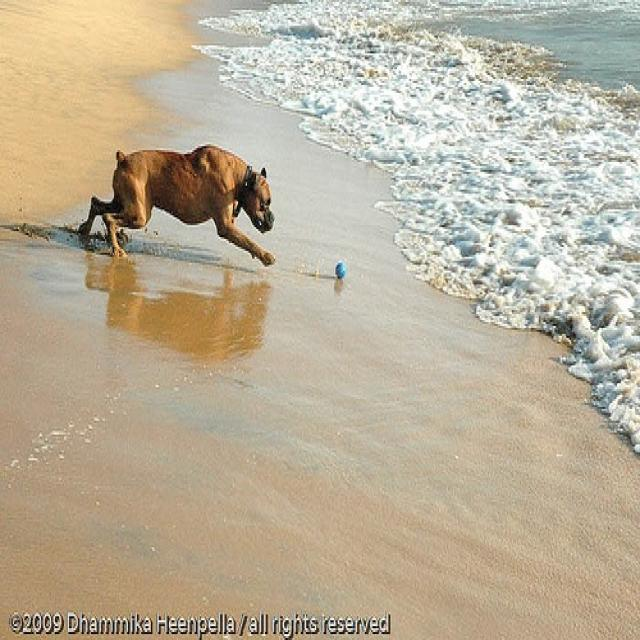dog: (70, 140, 276, 267)
